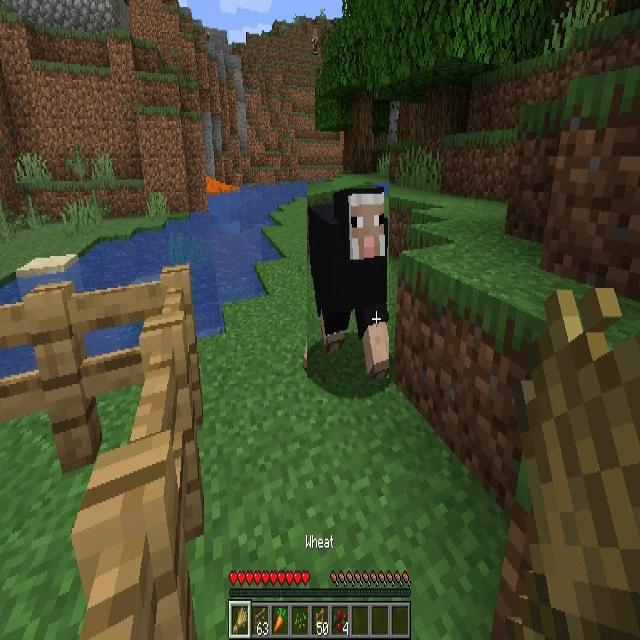sheep: (307, 182, 389, 378)
